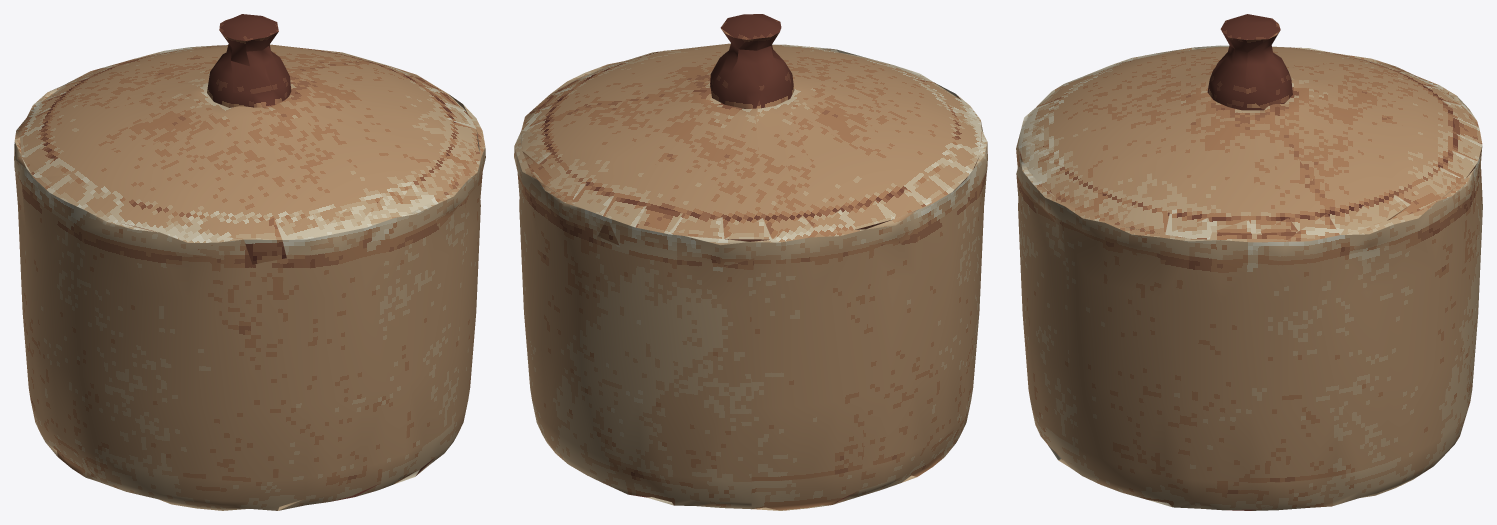
The model's file is brass_pot_01.glb.
3 views of the same model, side by side, from view 1: azimuth 30°, elevation 25°; view 2: azimuth 150°, elevation 25°; view 3: azimuth 270°, elevation 25° (orthographic).
Parts seen in each view (by area): view 1: body; view 2: body; view 3: body.
Boxes of the visible parts, x1,y1,x2,y2 form: body: [14, 14, 485, 510]; body: [514, 14, 987, 510]; body: [1016, 14, 1482, 510].
Bounding box in the file's own units: 0.2984 × 0.2909 × 0.2983.
Materials: 1 (1 with a texture image).
